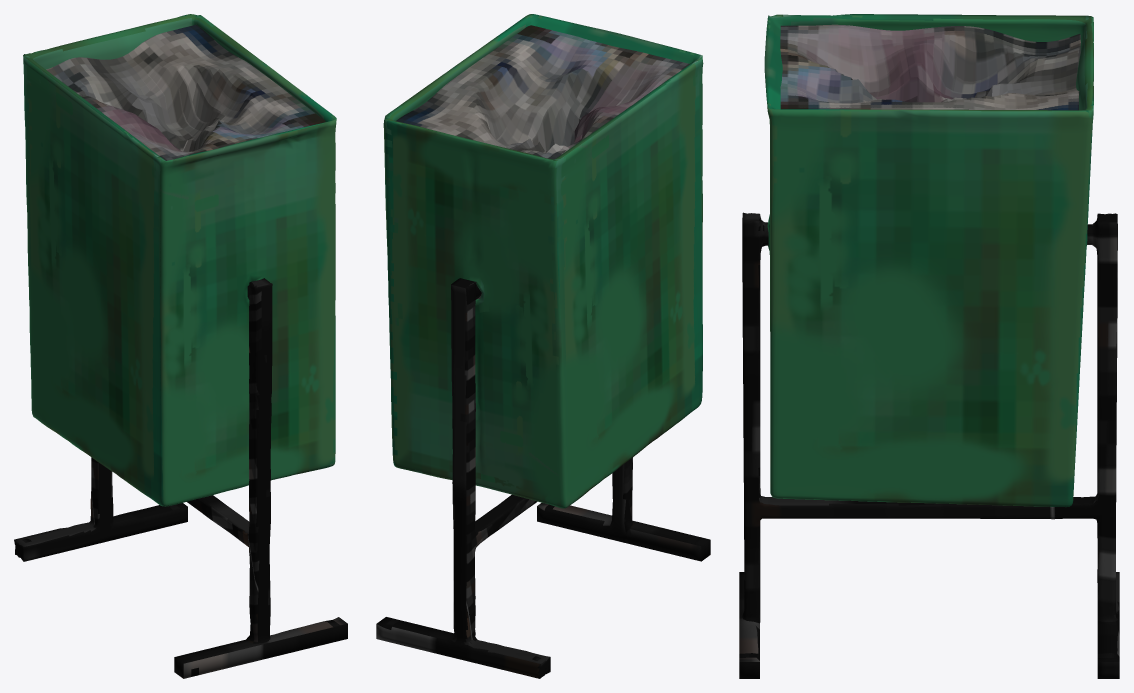
Rendered from урна.fbx.
3 renders of one model, left to right at view 1: azimuth 30°, elevation 25°; view 2: azimuth 150°, elevation 25°; view 3: azimuth 270°, elevation 25°, orthographic. The views are drawn at different scales.
Visible parts, largest first — view 1: model.001, Cube, model; view 2: model.001, Cube, model; view 3: model.001, model, Cube.
Boxes of the visible parts, x1,y1,x2,y2 form: model.001: (23,14,336,506); Cube: (46,24,325,160); model: (14,278,347,678); model.001: (383,14,703,508); Cube: (396,25,689,298); model: (376,278,710,678); model.001: (764,14,1093,507); model: (739,212,1119,678); Cube: (780,24,1080,110).
Bounding box in the file's own units: 69.82 × 190 × 115.
